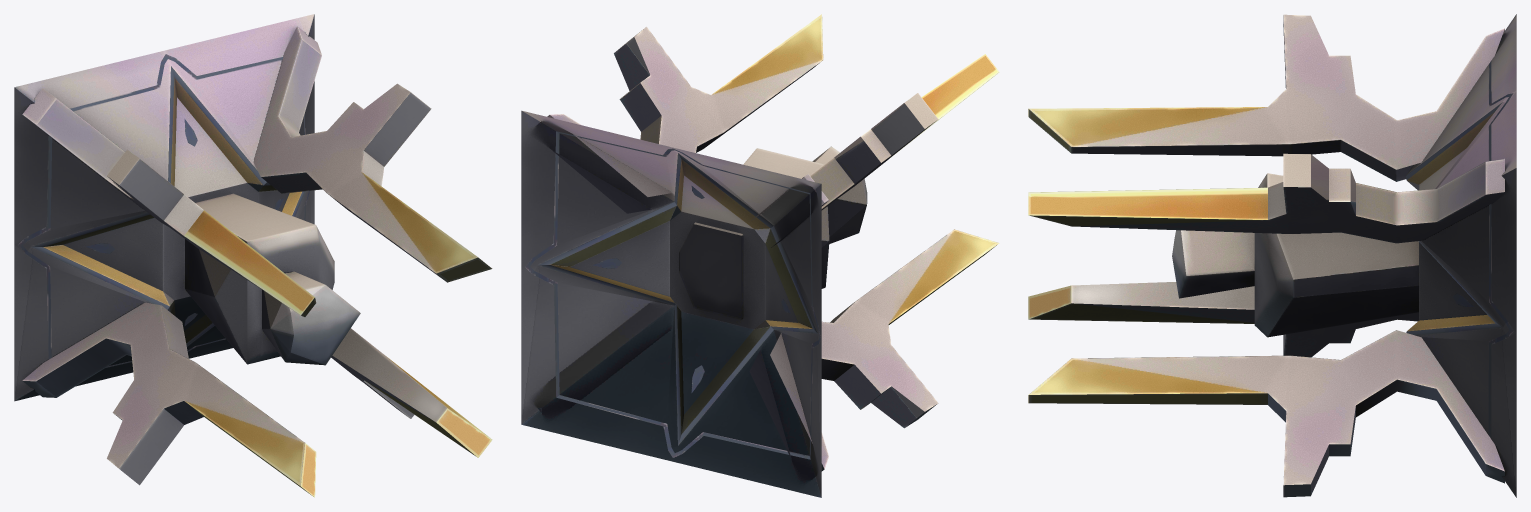
File: trap_057_wpnsts.glb
3 views of the same model, side by side, from view 1: azimuth 30°, elevation 25°; view 2: azimuth 150°, elevation 25°; view 3: azimuth 270°, elevation 25° (orthographic). The views are drawn at different scales.
Visible parts, largest first — view 1: S_latelan_arsenal; view 2: S_latelan_arsenal; view 3: S_latelan_arsenal.
Part boxes in pixels (x1,y1,x2,y2): S_latelan_arsenal: [14, 14, 492, 497]; S_latelan_arsenal: [521, 14, 999, 497]; S_latelan_arsenal: [1028, 14, 1516, 497].
Bounding box in the file's own units: 0.8141 × 0.8141 × 1.05.
1 material, 1 textured.
